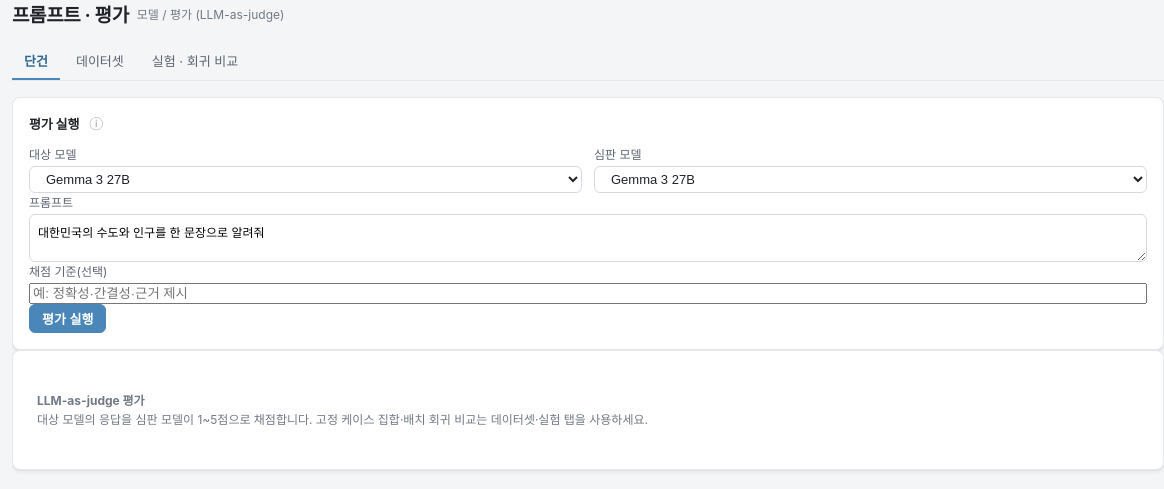
Test: Eval suite — IMP-39 › 탭 전환 — 기본 단건, 데이터셋 탭에서 목록 렌더
The image size is (1164, 489).
Click the tab "데이터셋".
click(100, 62)  # box [64, 43, 136, 80]
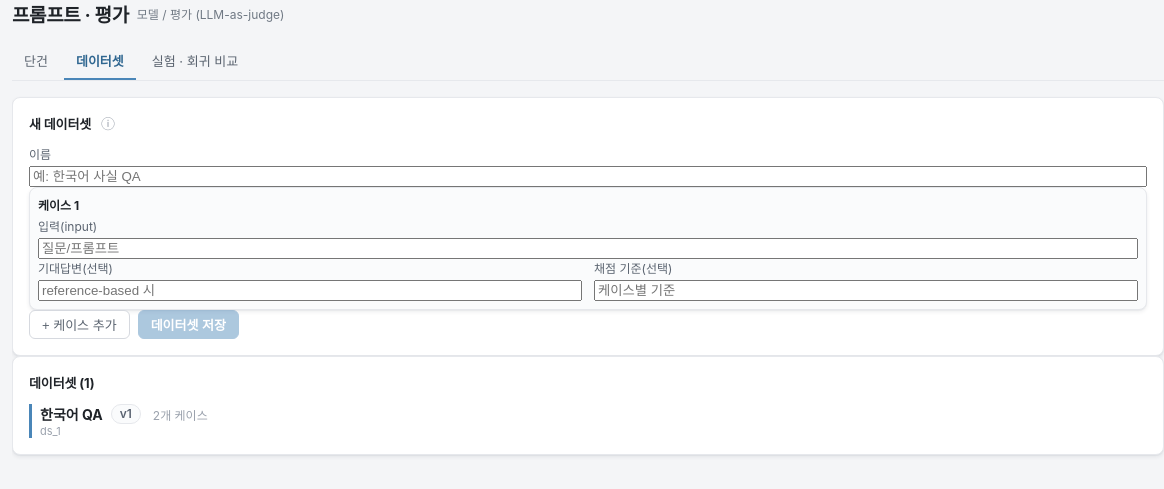
Expected: the text "한국어 QA" is shown, [40, 404, 103, 424]
Expected: the text "2개 케이스" is shown, [153, 406, 208, 422]
